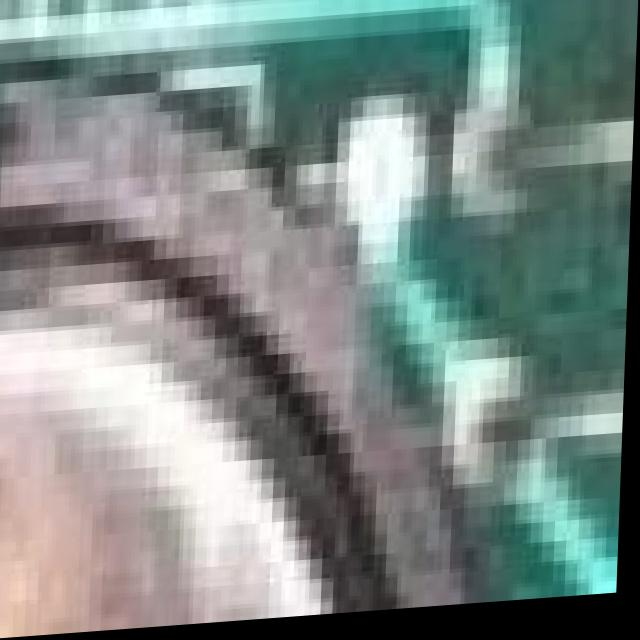battery: (0, 149, 523, 640)
